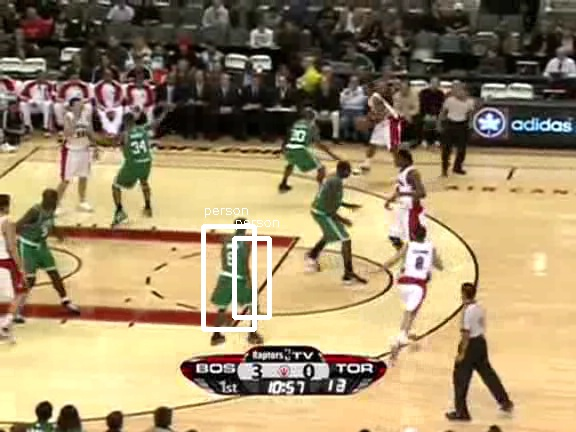person: (220, 232, 254, 313), (219, 232, 253, 313), (221, 232, 255, 313), (220, 231, 254, 312), (220, 233, 254, 314)
target_negative: (68, 119, 118, 392), (383, 203, 411, 409), (216, 205, 271, 309), (140, 415, 562, 427), (485, 391, 526, 393), (559, 281, 560, 309)
